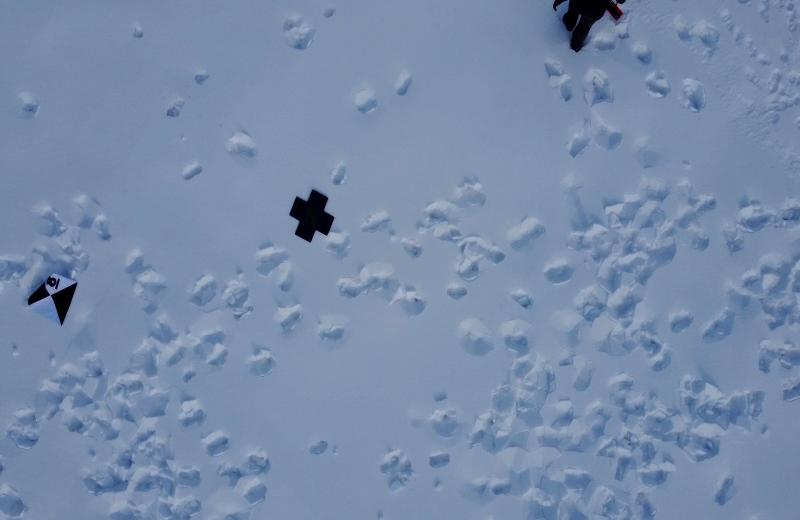Cross: (290, 188, 334, 242)
